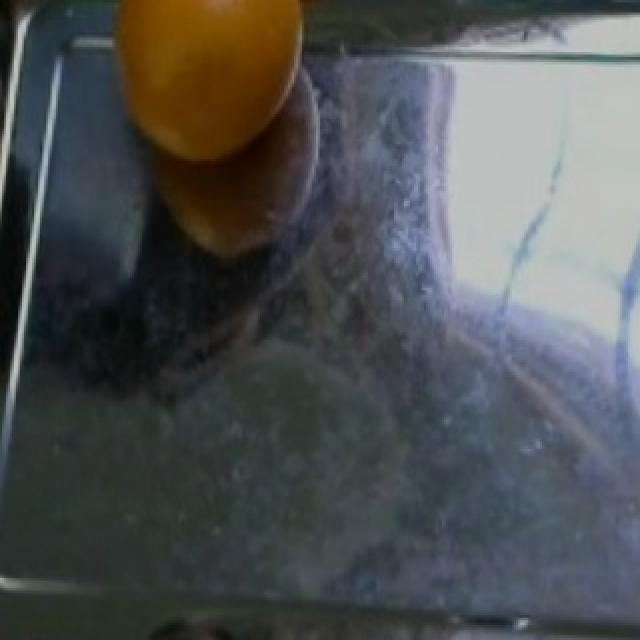Fruit: (98, 0, 322, 181)
